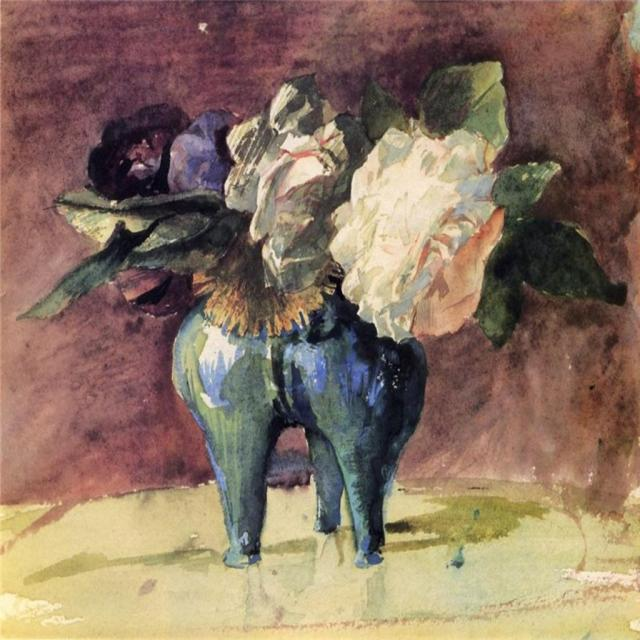elephant: (101, 190, 432, 568)
